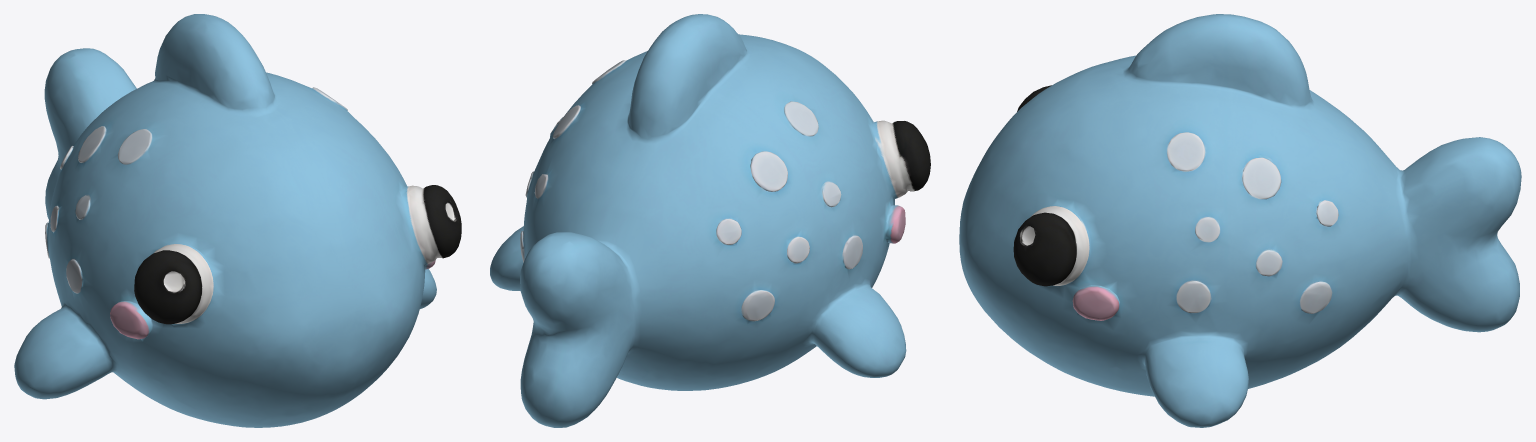
Rendered from fish_blue.glb.
The picture shows the model from 3 angles, left to right: view 1: azimuth 30°, elevation 25°; view 2: azimuth 150°, elevation 25°; view 3: azimuth 270°, elevation 25°; orthographic projection.
Visible parts, largest first — view 1: tripo_node_ecdaa56c-ef53-4d64-ab69-afbb1c4b1908; view 2: tripo_node_ecdaa56c-ef53-4d64-ab69-afbb1c4b1908; view 3: tripo_node_ecdaa56c-ef53-4d64-ab69-afbb1c4b1908.
Boxes of the visible parts, box(x1,y1,x2,y2) form: tripo_node_ecdaa56c-ef53-4d64-ab69-afbb1c4b1908: box(14, 14, 461, 427); tripo_node_ecdaa56c-ef53-4d64-ab69-afbb1c4b1908: box(490, 14, 930, 427); tripo_node_ecdaa56c-ef53-4d64-ab69-afbb1c4b1908: box(959, 14, 1521, 427).
Bounding box in the file's own units: 0.8176 × 0.7037 × 0.9811.
1 material, 1 textured.
